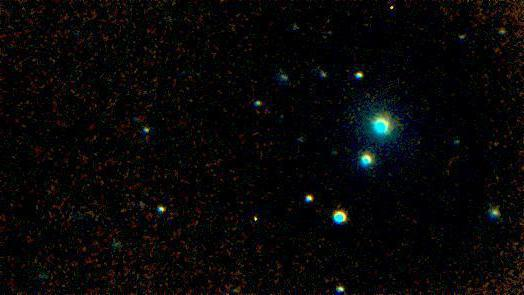star: (483, 130, 513, 160)
